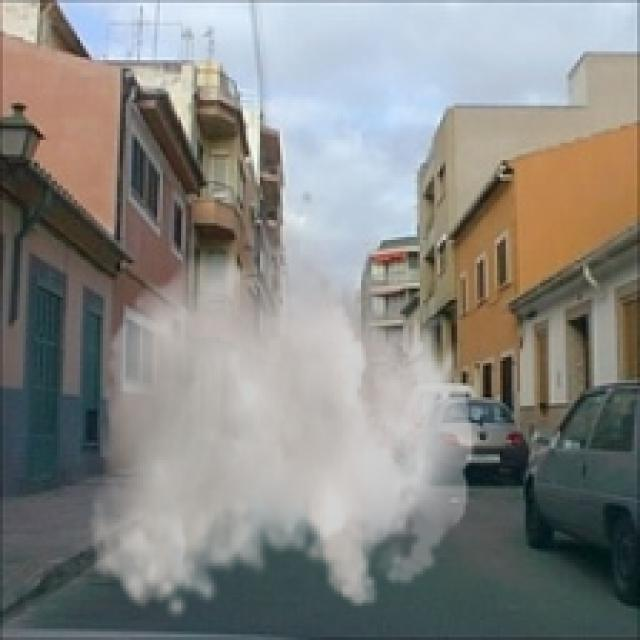smoke: (89, 197, 474, 623)
